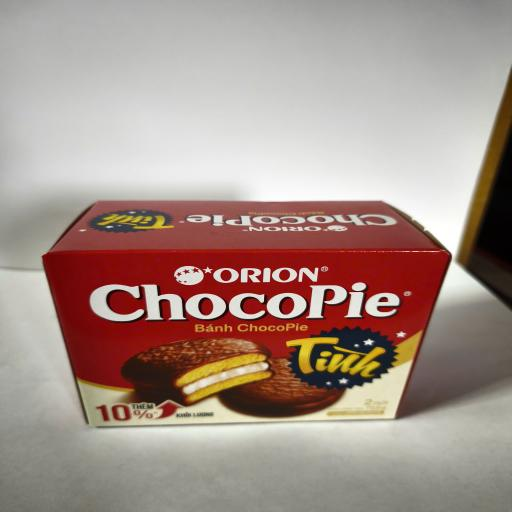chocopie: (42, 200, 452, 427)
